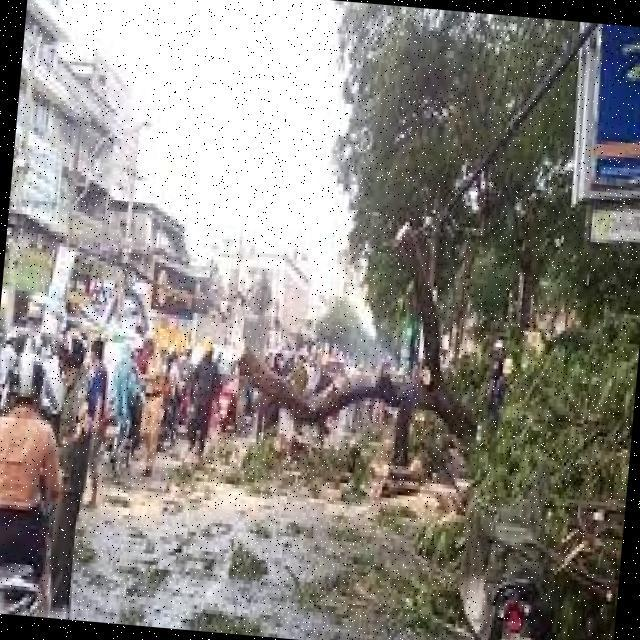fallen_object: (137, 249, 640, 568)
